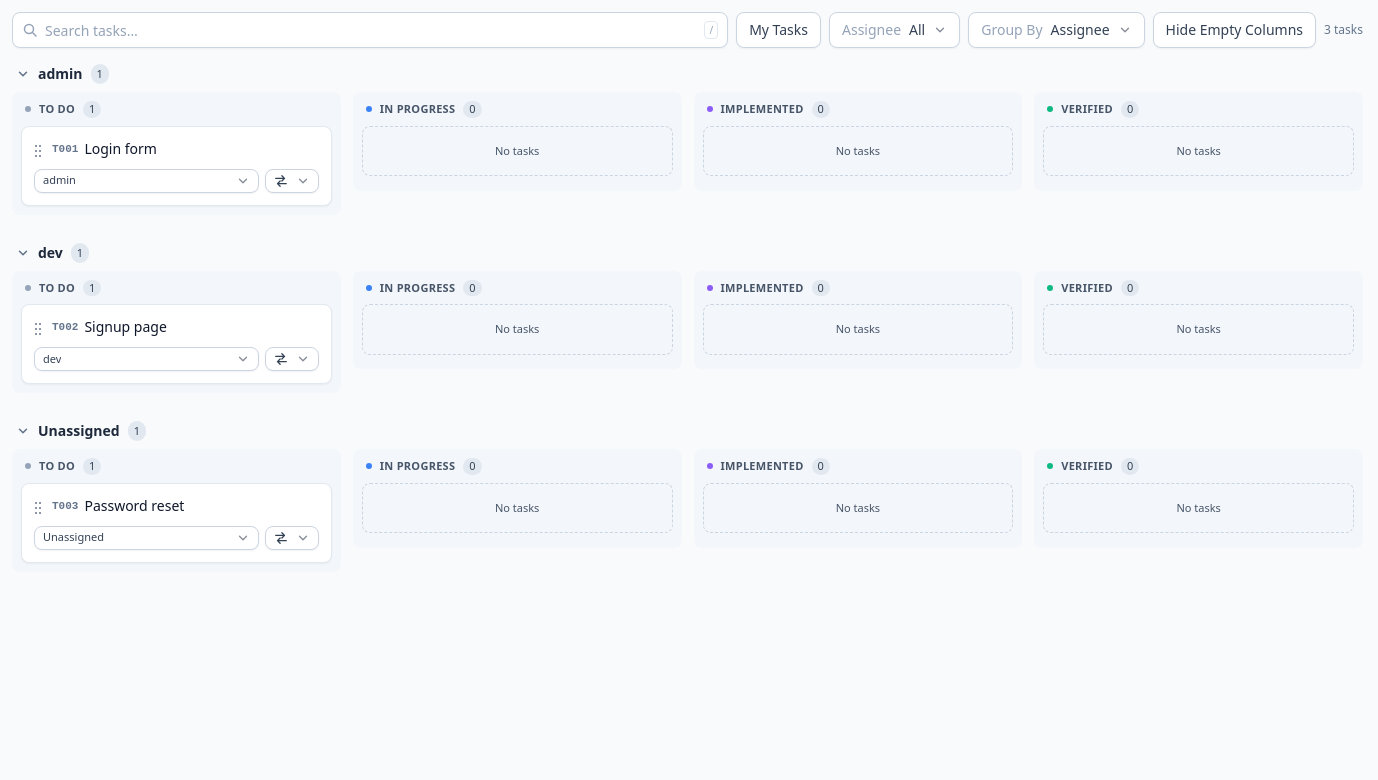
Test case: TaskBoard filters, lanes and drawer › groups into collapsible swimlanes by assignee
The image size is (1378, 780).
Expected: the button "Login form" is shown, [84,138,319,158]
Expected: the button "Signup page" is shown, [84,317,319,336]
Click the button "dev 1". click: point(53, 252)
box: [12,242,93,262]
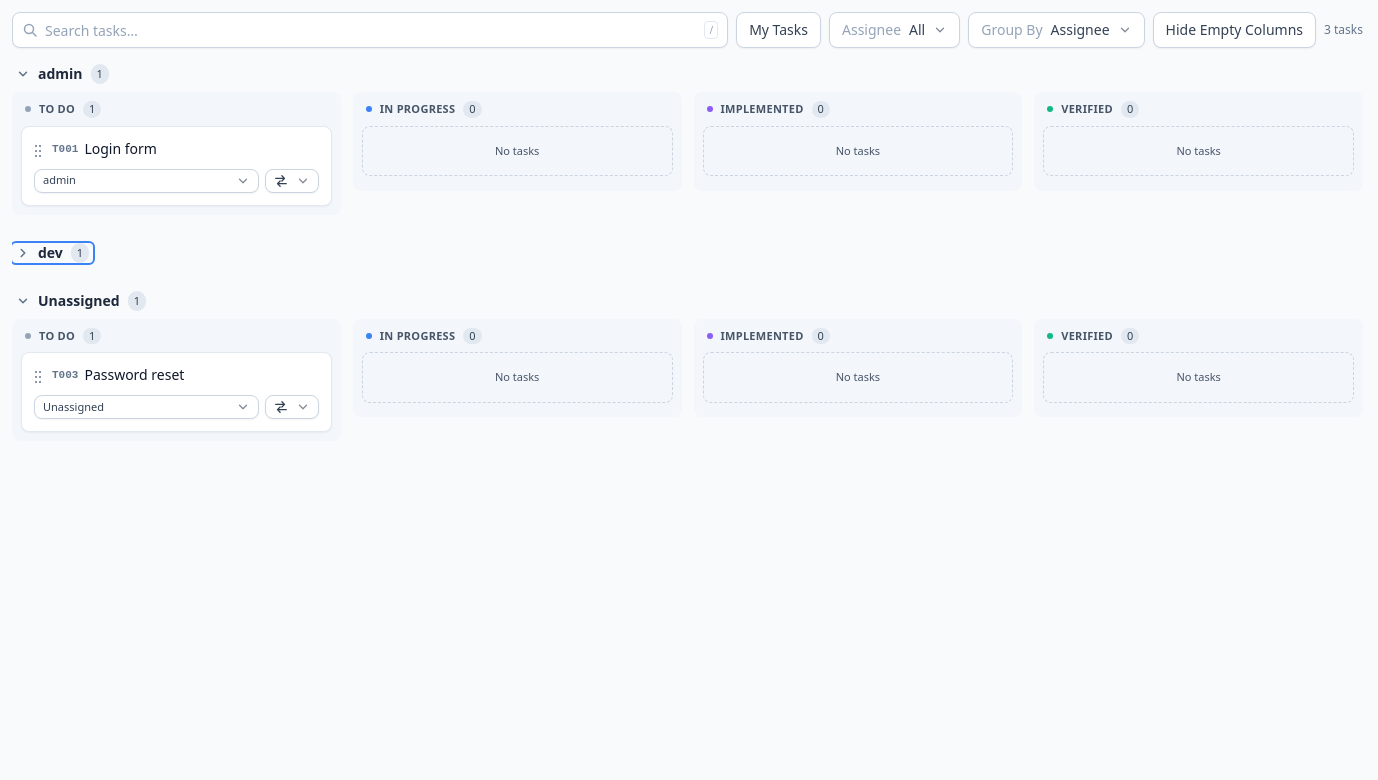
Now the button "dev 1" is collapsed, box [12,242,93,262]
Now the button "Signup page" is gone
